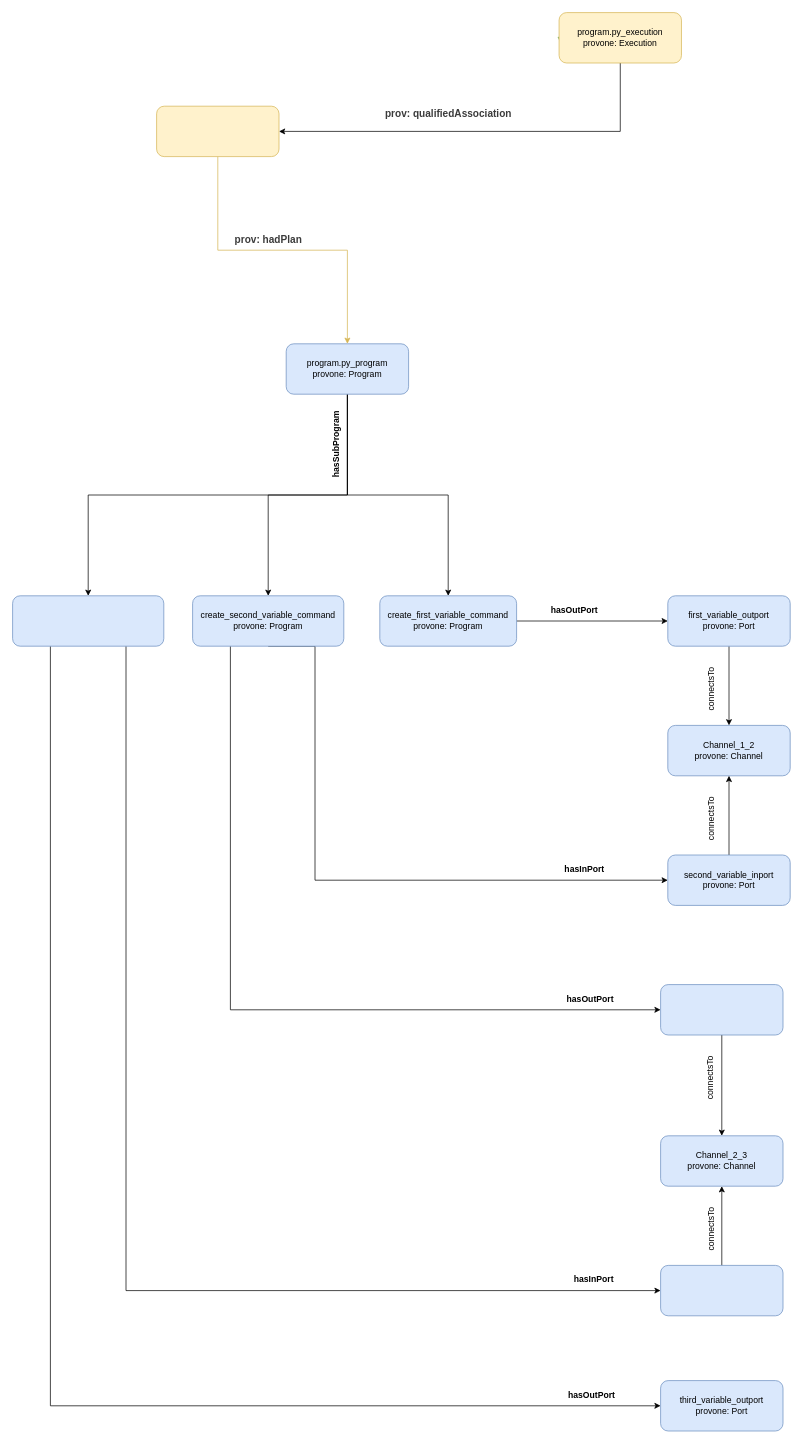
This 803x1444 diagram has some shape labels left out. Here are the shapes that lost their labels. From the top down, the box of each, then its label:
(156, 105, 279, 157): associated_plan provone: Association
(12, 595, 164, 646): create_third_variable_command provone: Program
(660, 984, 783, 1035): second_variable_outport provone: Port
(660, 1265, 783, 1316): create_third_variable_inport provone: Port
